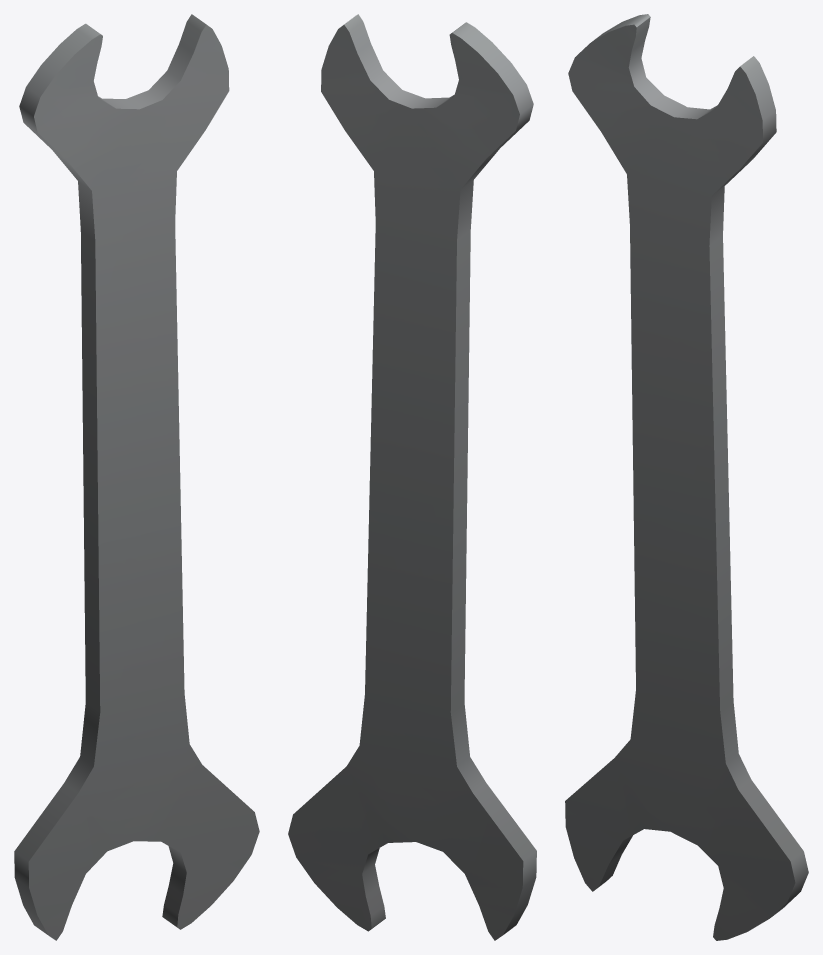
The model's file is Wrench.fbx.
The picture shows the model from 3 angles, left to right: view 1: azimuth 30°, elevation 25°; view 2: azimuth 150°, elevation 25°; view 3: azimuth 330°, elevation 25°; orthographic projection. The views are drawn at different scales.
Parts seen in each view (by area): view 1: Wrench; view 2: Wrench; view 3: Wrench.
Boxes of the visible parts, bbox=[...] form: Wrench: bbox=[14, 14, 259, 940]; Wrench: bbox=[288, 14, 536, 940]; Wrench: bbox=[565, 14, 808, 940].
Size of the model in its own units: 18.92 by 2.4 by 71.02.
